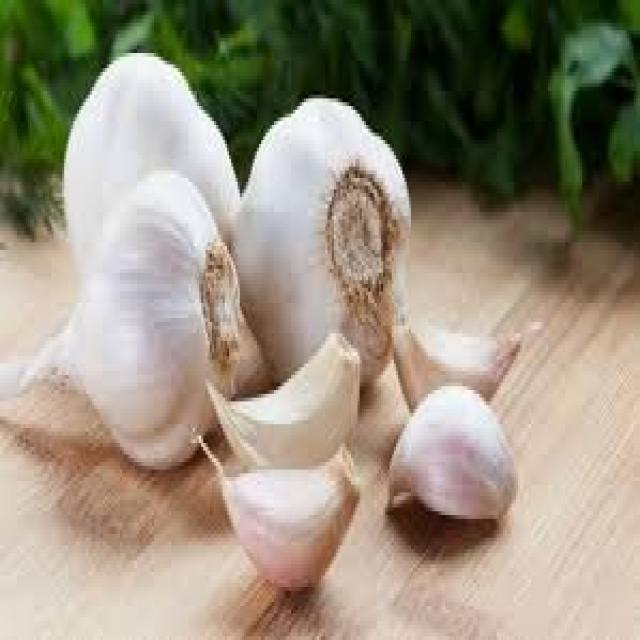Garlic: (16, 174, 285, 476), (215, 94, 405, 397), (202, 430, 364, 581), (394, 284, 534, 437), (384, 361, 513, 522), (201, 362, 371, 460)
